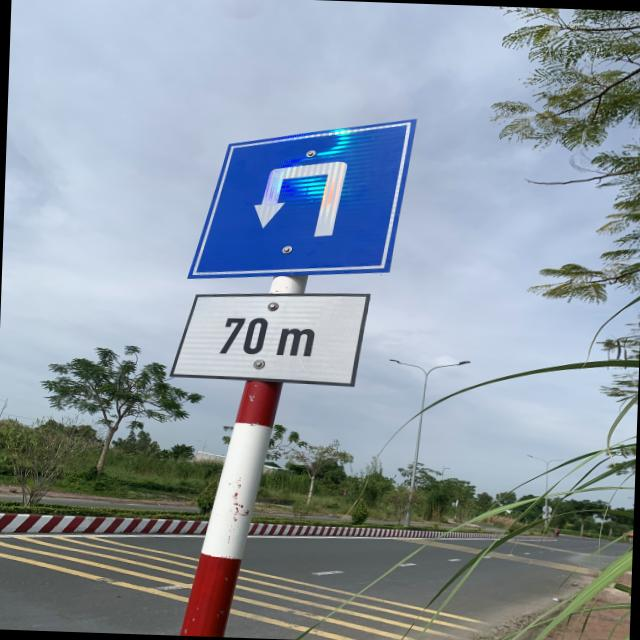Den_Giao_Thong: (188, 114, 418, 282)
